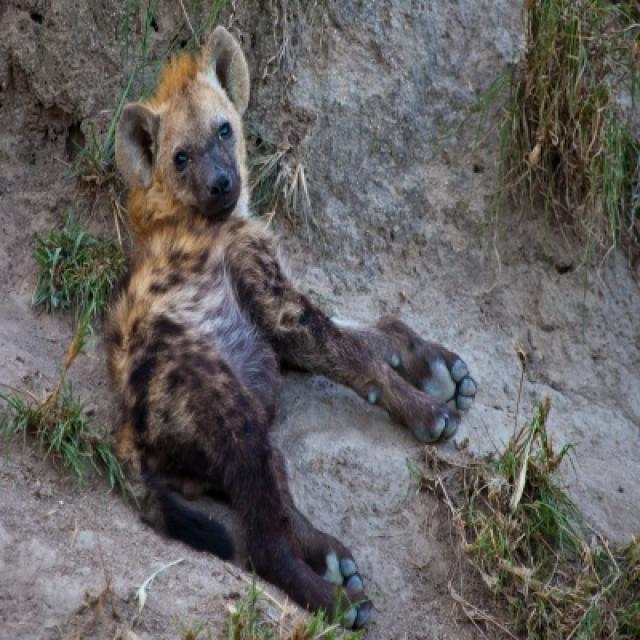hyena: (99, 27, 477, 629)
